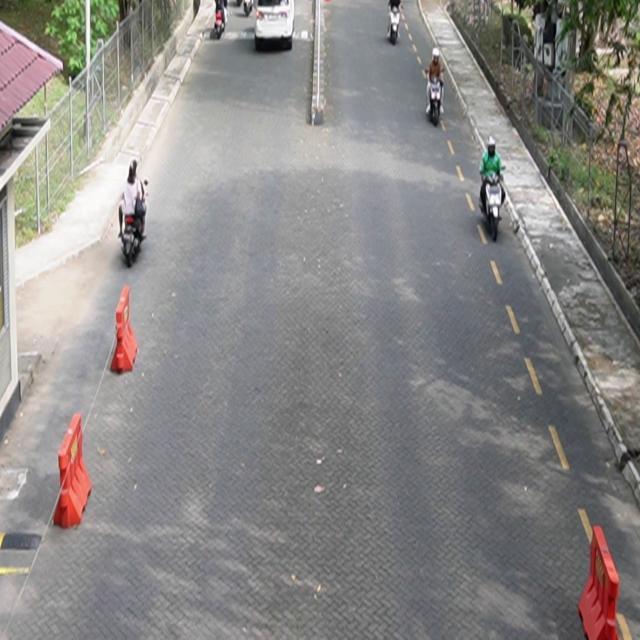car: (254, 1, 295, 51)
